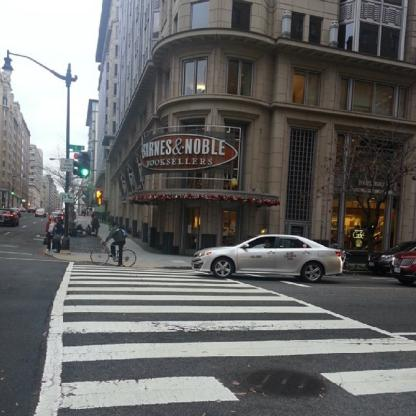Car: (192, 232, 348, 282), (0, 204, 65, 226), (363, 245, 415, 270), (391, 248, 415, 295)
